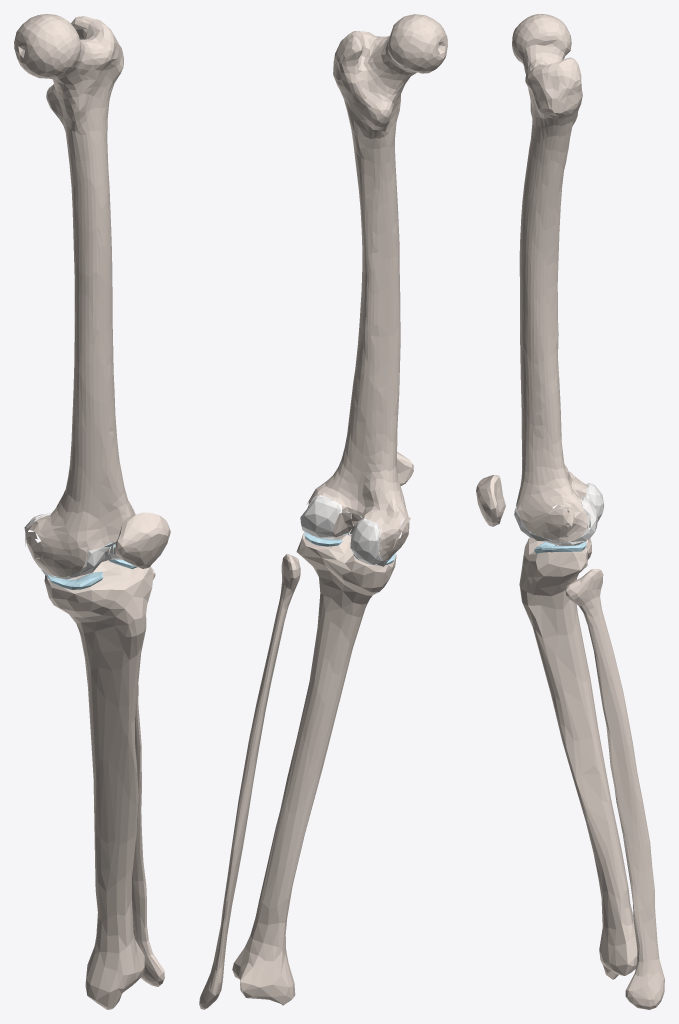
File: VH_M_Knee_L_0.2.glb
3 renders of one model, left to right at view 1: azimuth 30°, elevation 25°; view 2: azimuth 150°, elevation 25°; view 3: azimuth 270°, elevation 25°, orthographic. The views are drawn at different scales.
Parts seen in each view (by area): view 1: VH_M_femur_L, VH_M_tibia_L, VH_M_fibula_L, VH_M_patella_L, VH_M_meniscus_L; view 2: VH_M_femur_L, VH_M_tibia_L, VH_M_fibula_L, VH_M_lateral_condyle_of_femur_inf_L, VH_M_medial_condyle_of_left_femur_inf; view 3: VH_M_femur_L, VH_M_tibia_L, VH_M_fibula_L, VH_M_patella_L, VH_M_articular_cartilage_of_knee_L.
Part boxes in pixels (x1,y1,x2,y2): VH_M_femur_L: (14,14,135,576); VH_M_tibia_L: (44,548,153,1009); VH_M_fibula_L: (132,568,164,986); VH_M_patella_L: (115,512,170,568); VH_M_meniscus_L: (46,543,137,589); VH_M_femur_L: (308,14,447,560); VH_M_tibia_L: (232,532,396,1005); VH_M_fibula_L: (199,554,300,1009); VH_M_lateral_condyle_of_femur_inf_L: (300,496,340,537); VH_M_medial_condyle_of_left_femur_inf: (350,519,380,564); VH_M_femur_L: (512,14,587,541); VH_M_tibia_L: (519,535,637,979); VH_M_fibula_L: (565,569,664,1009); VH_M_patella_L: (476,475,505,526); VH_M_articular_cartilage_of_knee_L: (514,483,590,545).
Bounding box in the file's own units: 0.1737 × 0.8875 × 0.1647.
